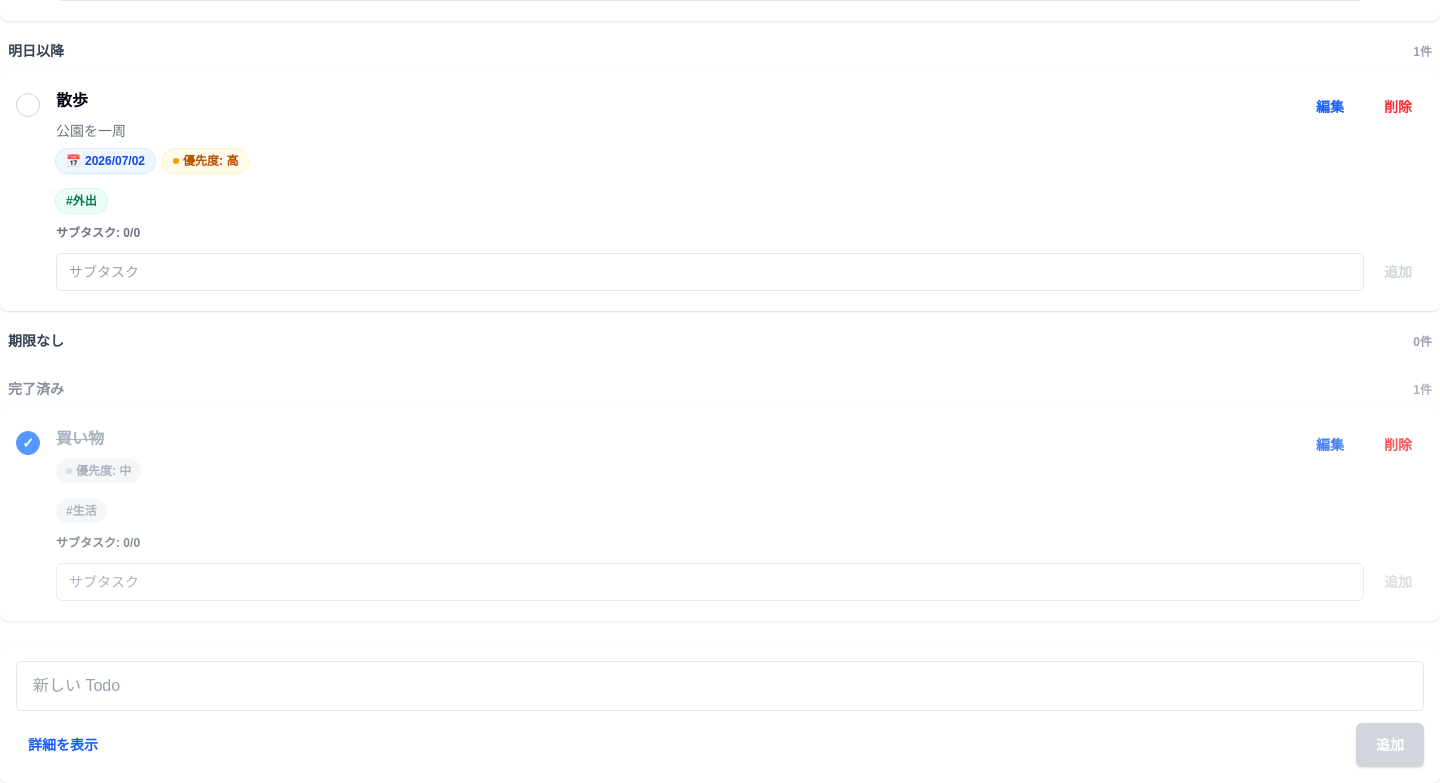
Todo追加フォームの詳細項目を開閉できる
(page scrolled)
What coordinates should you click on to do the following:
click the button with aria-label "Todo追加の詳細を表示"
I would click on:
 (63, 745)
Its box is left=16, top=727, right=110, bottom=763.
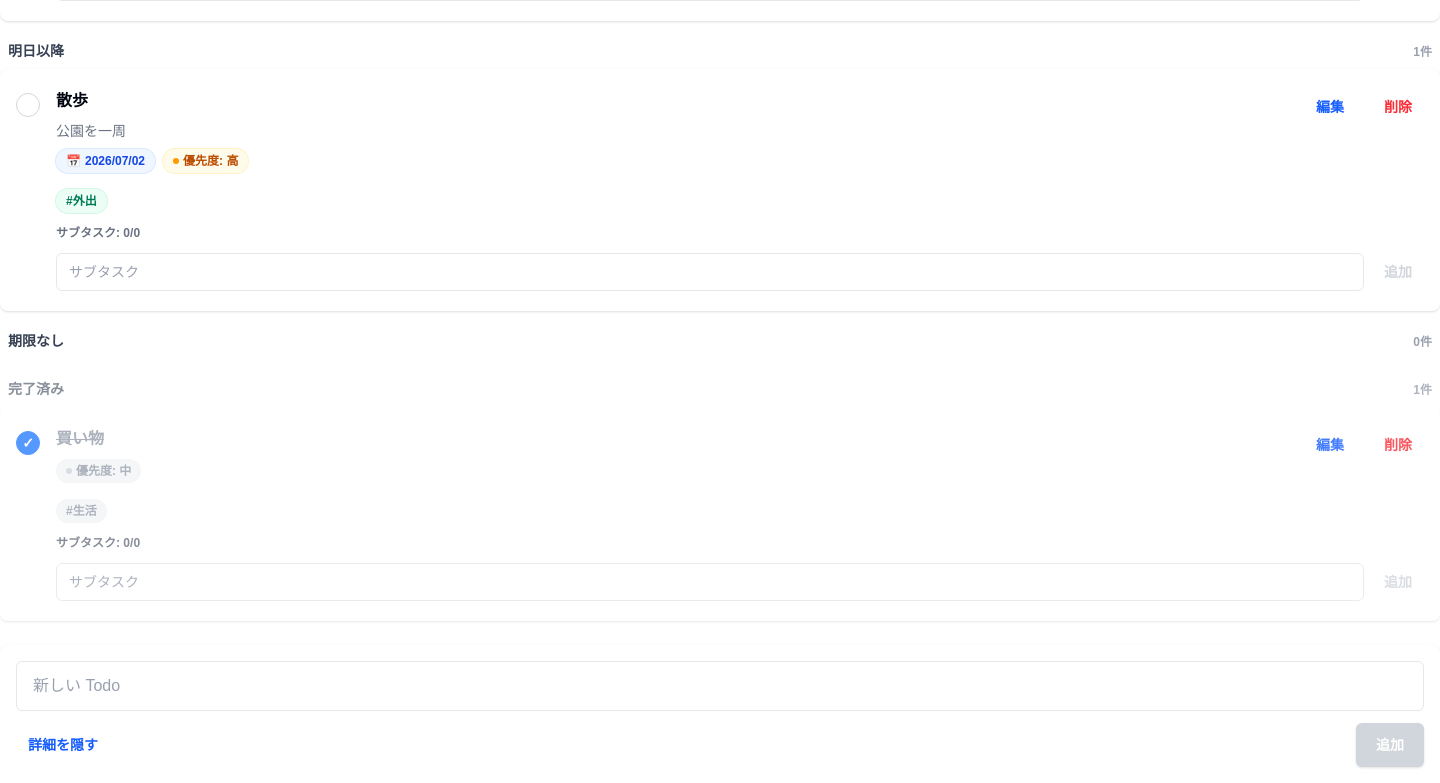
Now the button with aria-label "Todo追加の詳細を隠す" is expanded
What coordinates should you click on to do the following:
click the button with aria-label "Todo追加の詳細を隠す"
I would click on:
 (63, 745)
Its box is left=16, top=727, right=110, bottom=763.
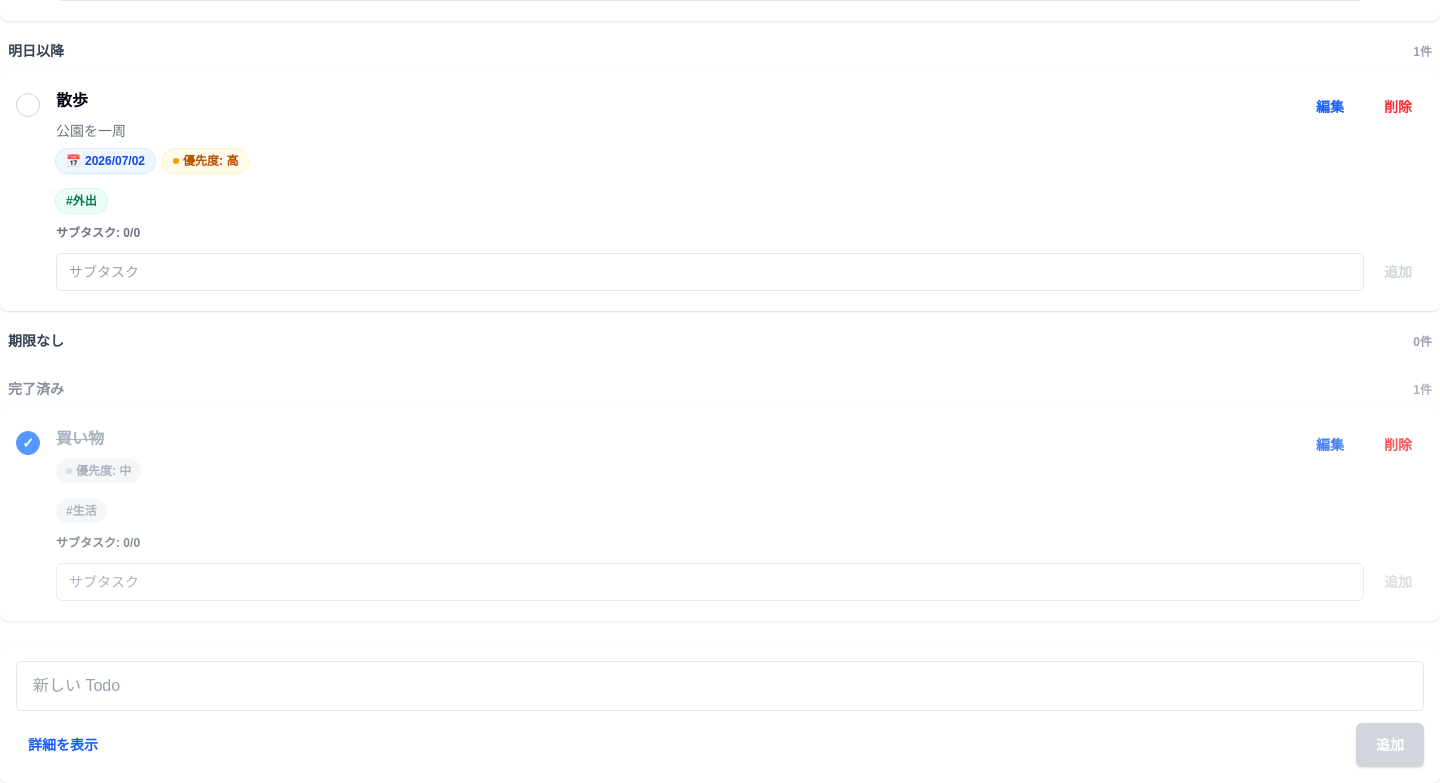
Now the button with aria-label "Todo追加の詳細を表示" is collapsed, box left=16, top=727, right=110, bottom=763
